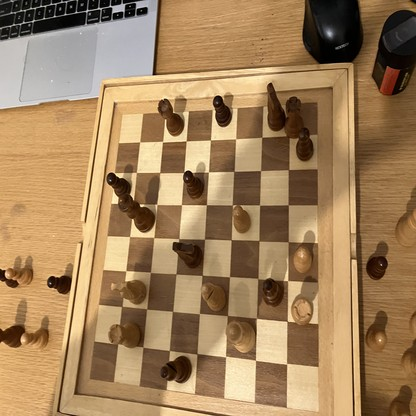bishop_black: (161, 356, 192, 383), (263, 279, 282, 306)
bishop_white: (201, 284, 225, 311)
knight_black: (268, 84, 286, 130), (172, 242, 202, 267)
knight_white: (111, 279, 147, 306)
pawn_black: (107, 173, 132, 197), (213, 97, 232, 127), (183, 172, 204, 199), (297, 128, 313, 161), (367, 257, 387, 280), (46, 277, 71, 294)
pawn_white: (20, 329, 49, 349), (233, 206, 251, 234), (367, 330, 387, 353), (5, 269, 32, 286), (294, 245, 311, 272)
queen_black: (119, 195, 156, 232)
queen_white: (226, 322, 257, 354)
rock_black: (158, 99, 184, 136), (287, 96, 305, 137)
rock_white: (109, 324, 140, 347), (291, 297, 313, 325)
